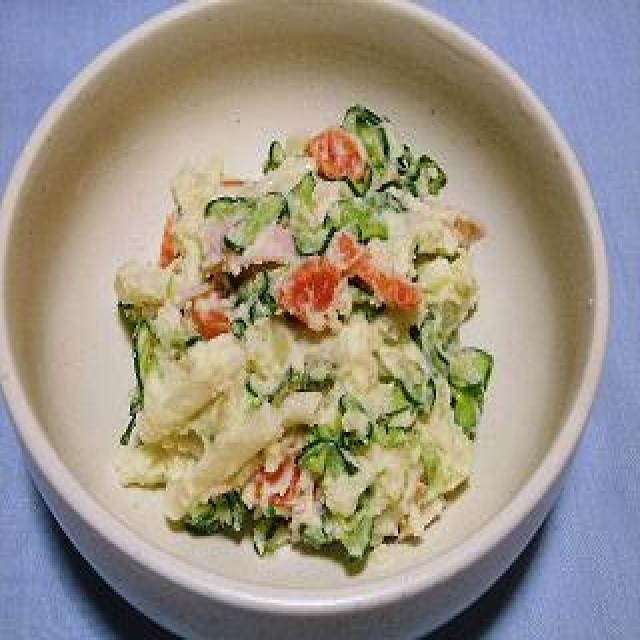蔬菜料理: (4, 0, 612, 640)
